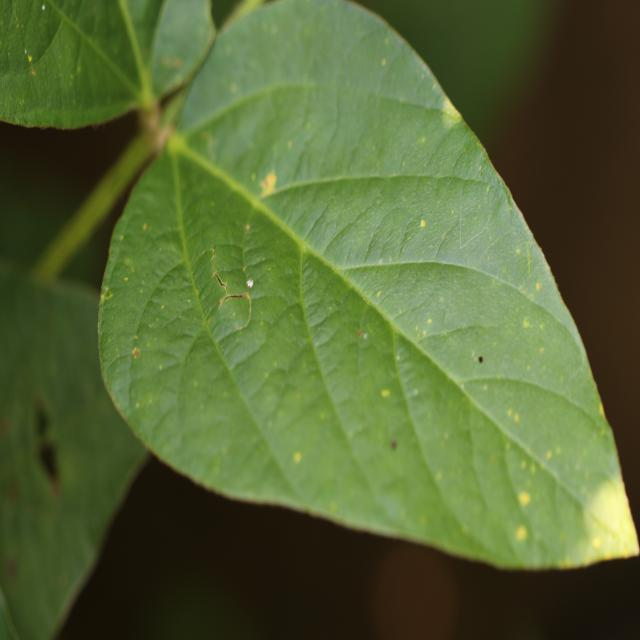Soybean: (0, 0, 640, 575)
downey_mildew: (386, 328, 519, 548), (300, 259, 415, 488), (436, 146, 565, 316), (290, 175, 497, 264), (181, 82, 363, 180), (449, 285, 590, 399), (311, 11, 436, 123), (36, 1, 153, 115), (314, 99, 469, 183), (176, 324, 261, 474), (479, 376, 601, 457), (111, 156, 190, 274), (236, 292, 316, 407), (131, 250, 204, 368), (95, 185, 146, 338), (308, 293, 376, 400), (150, 0, 217, 106), (337, 261, 455, 314), (165, 140, 197, 326), (246, 236, 306, 331), (332, 307, 402, 376), (314, 205, 389, 260), (285, 189, 352, 250), (407, 324, 495, 364), (104, 347, 145, 425), (14, 2, 61, 69), (200, 238, 253, 292), (3, 104, 93, 129), (73, 10, 89, 97), (235, 257, 276, 281)
